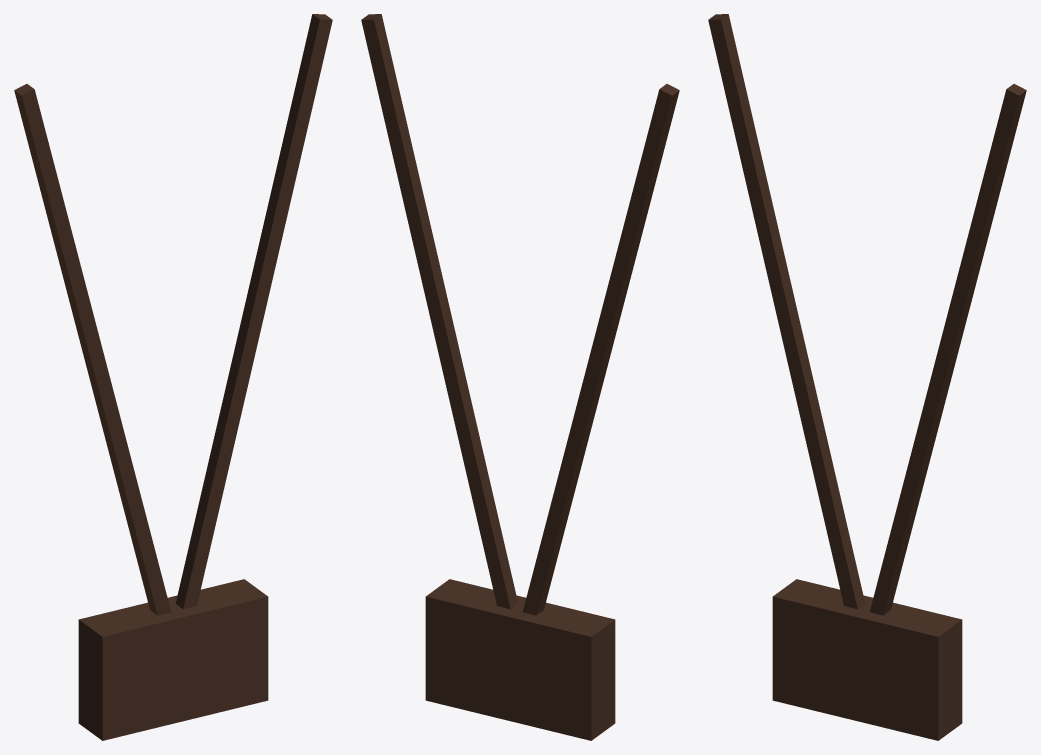
File: iceman-sling.glb
The picture shows the model from 3 angles, left to right: view 1: azimuth 30°, elevation 25°; view 2: azimuth 150°, elevation 25°; view 3: azimuth 330°, elevation 25°; orthographic projection.
Parts seen in each view (by area): view 1: Pouch, CordB, CordA; view 2: Pouch, CordB, CordA; view 3: Pouch, CordA, CordB.
Boxes of the visible parts, <box> form: Pouch: <box>78,579,268,740</box>; CordB: <box>175,14,332,609</box>; CordA: <box>14,84,171,615</box>; Pouch: <box>425,579,615,740</box>; CordB: <box>361,14,518,609</box>; CordA: <box>522,84,679,615</box>; Pouch: <box>772,579,962,740</box>; CordA: <box>708,14,865,609</box>; CordB: <box>869,84,1026,615</box>.
Size of the model in its own units: 0.1877 by 0.381 by 0.025.
